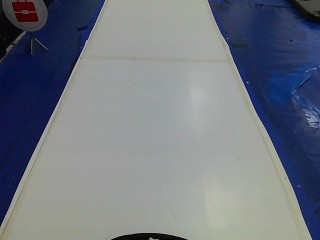company: (0, 0, 49, 36)
